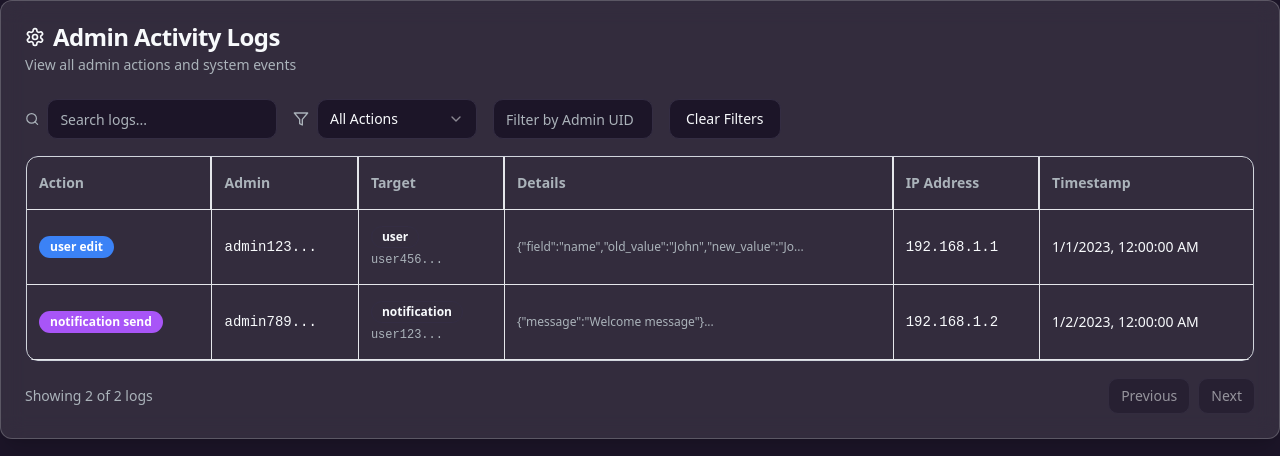
AdminLogs › filters logs based on search term
The width and height of the screenshot is (1280, 456).
Expected: the text "user edit" is shown, x1=39 y1=236 x2=114 y2=258
Type "notification" into the field with placeholder "Search logs...".
click(162, 119); type("notification")  # box x1=47 y1=99 x2=277 y2=139
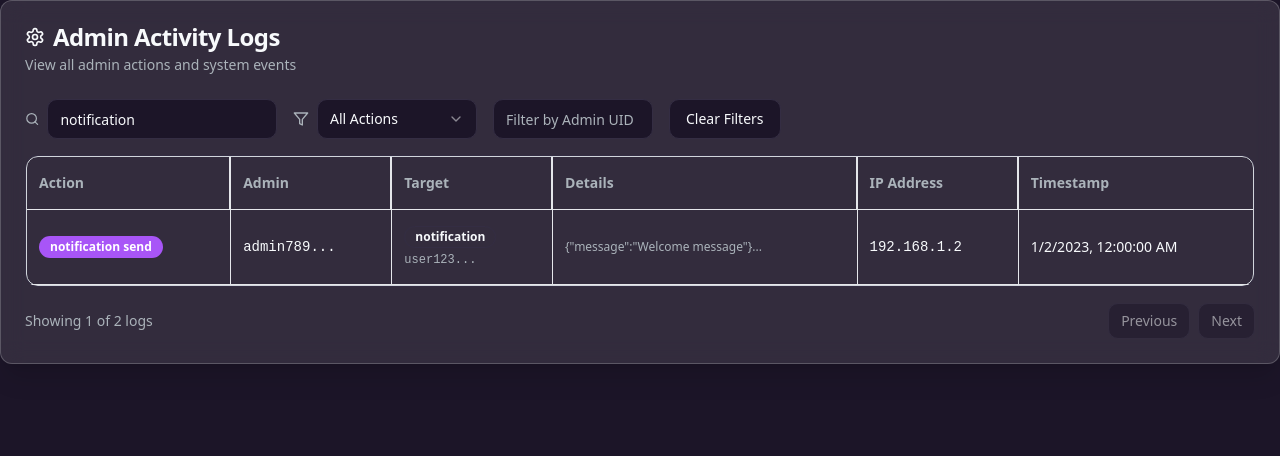
Expected: the text "notification send" is shown, x1=39 y1=236 x2=163 y2=258
Expected: the text "user edit" is gone
